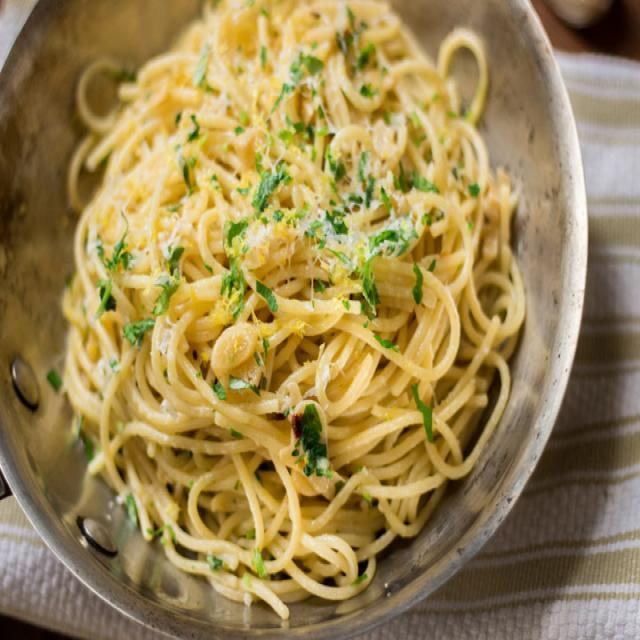Oil pasta: (30, 12, 536, 632)
